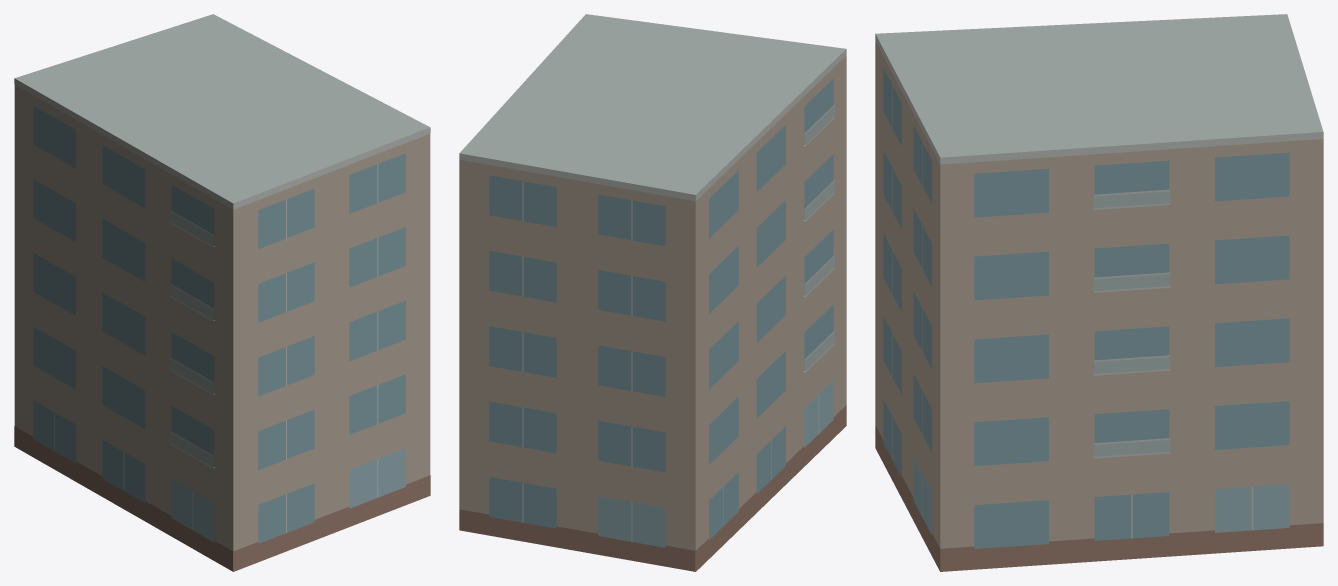
The model's file is survey-upis-32744973.glb.
The picture shows the model from 3 angles, left to right: view 1: azimuth 30°, elevation 25°; view 2: azimuth 150°, elevation 25°; view 3: azimuth 270°, elevation 25°; orthographic projection. The views are drawn at different scales.
Parts seen in each view (by area): view 1: survey-upis-32744973.tmp; view 2: survey-upis-32744973.tmp; view 3: survey-upis-32744973.tmp.
Boxes of the visible parts, <box> form: survey-upis-32744973.tmp: <box>14,14,430,571</box>; survey-upis-32744973.tmp: <box>459,14,846,571</box>; survey-upis-32744973.tmp: <box>875,14,1323,571</box>.
Size of the model in its own units: 10.75 by 14.45 by 14.18.
